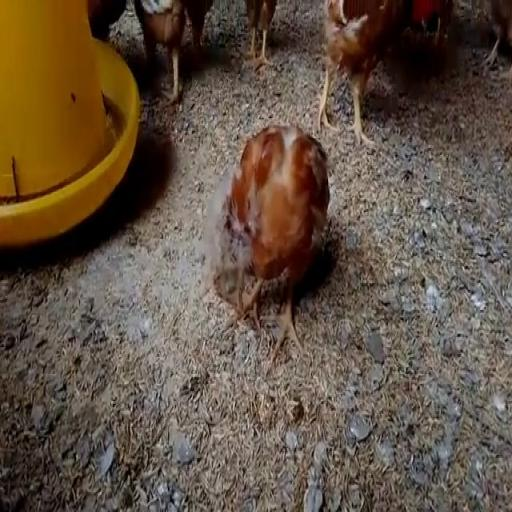disease: (210, 263, 242, 317)
